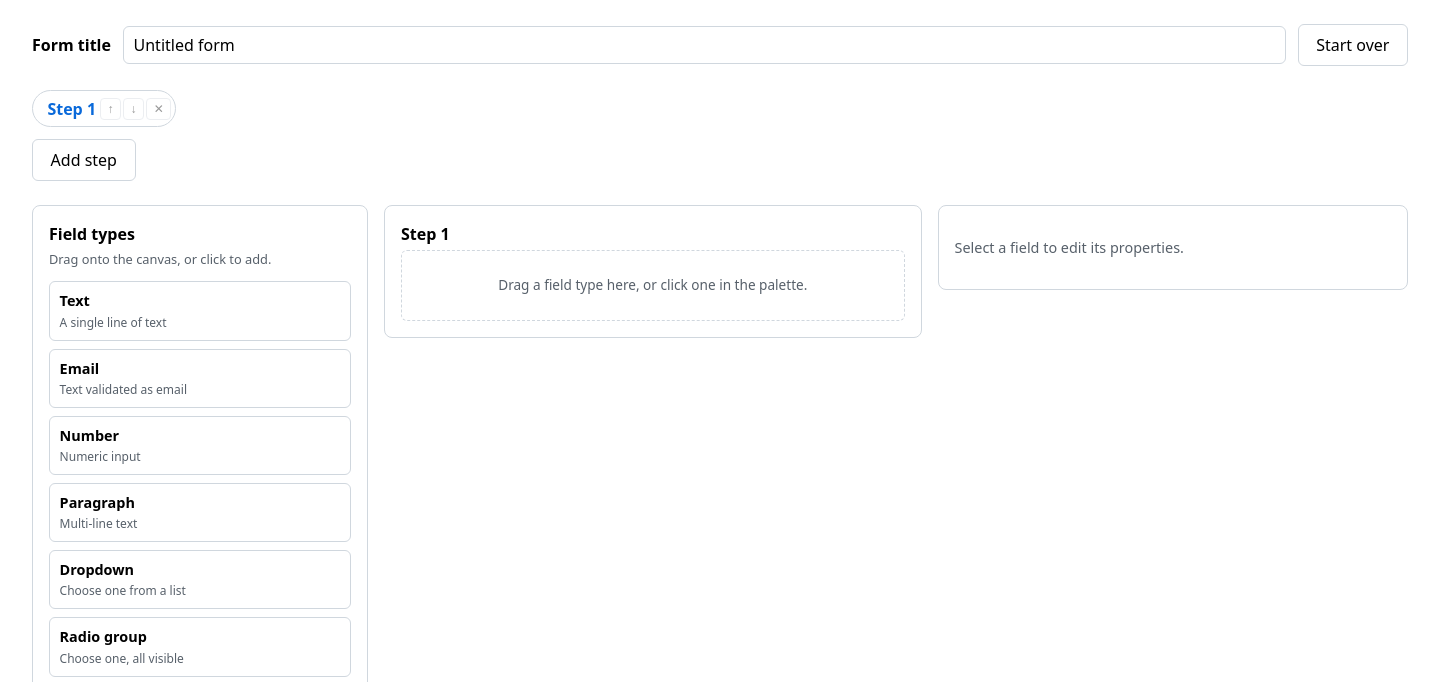
BuilderPage › editing label and name in the inspector updates the canvas and live preview
Click the button "Text A single line of text" at (75, 301), box [49,281,351,340]
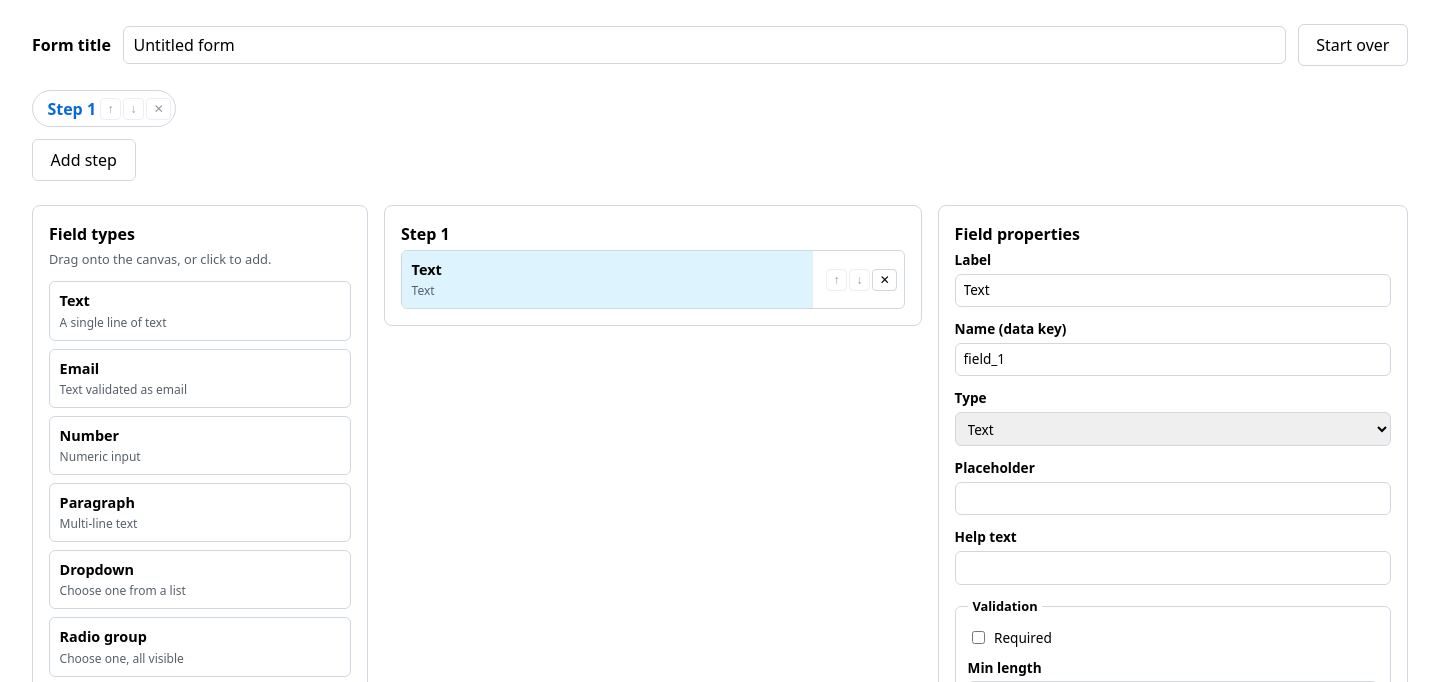
Replace the text in the field labelled "Label" with "Full name" at (1173, 290), box [955,274,1391,307]
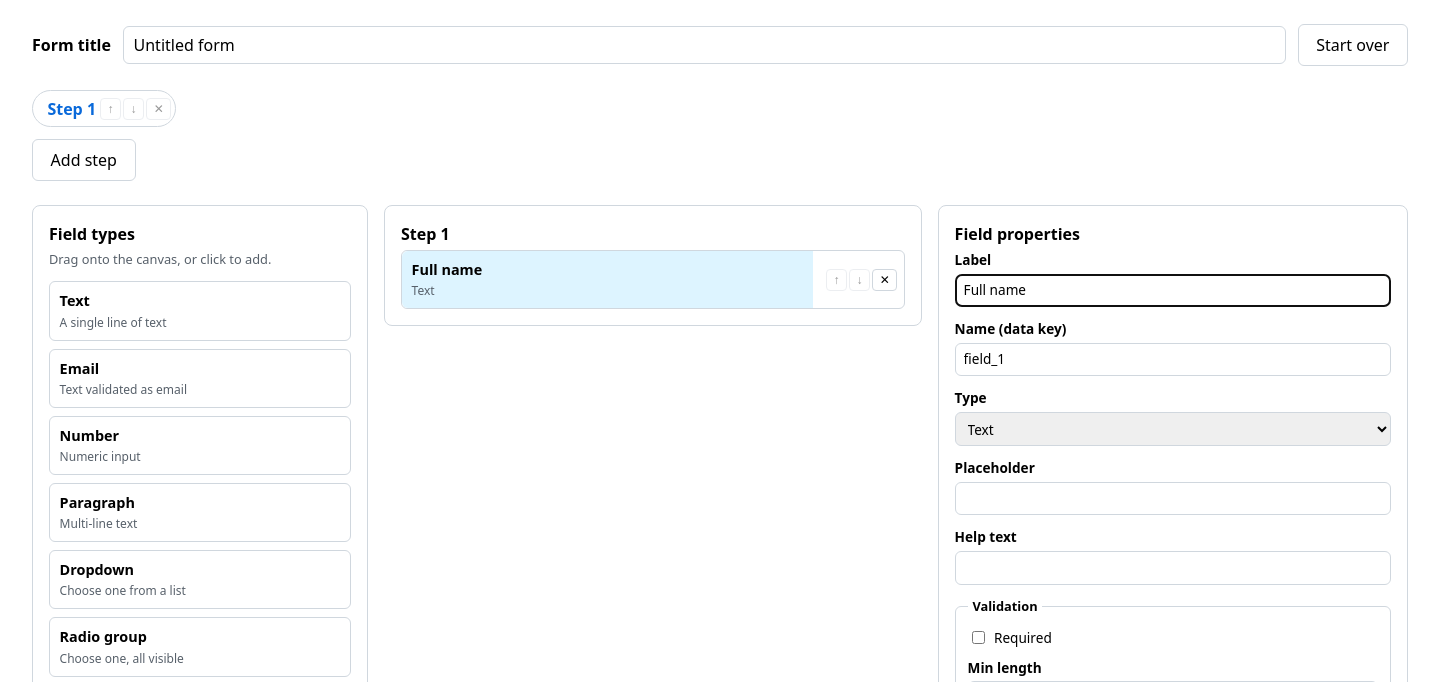
Replace the text in the field labelled "Name (data key)" with "fullName" at (1173, 360), box [955,343,1391,376]
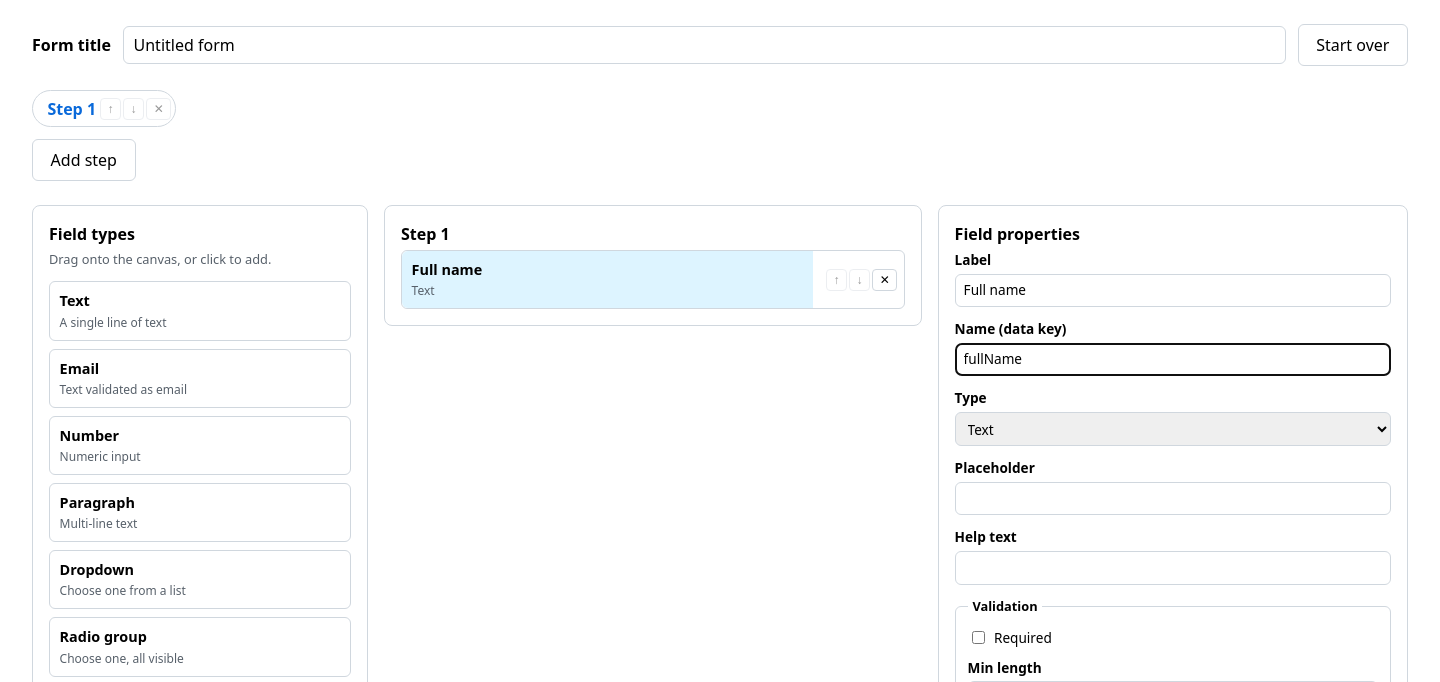
Press Tab
(page scrolled)
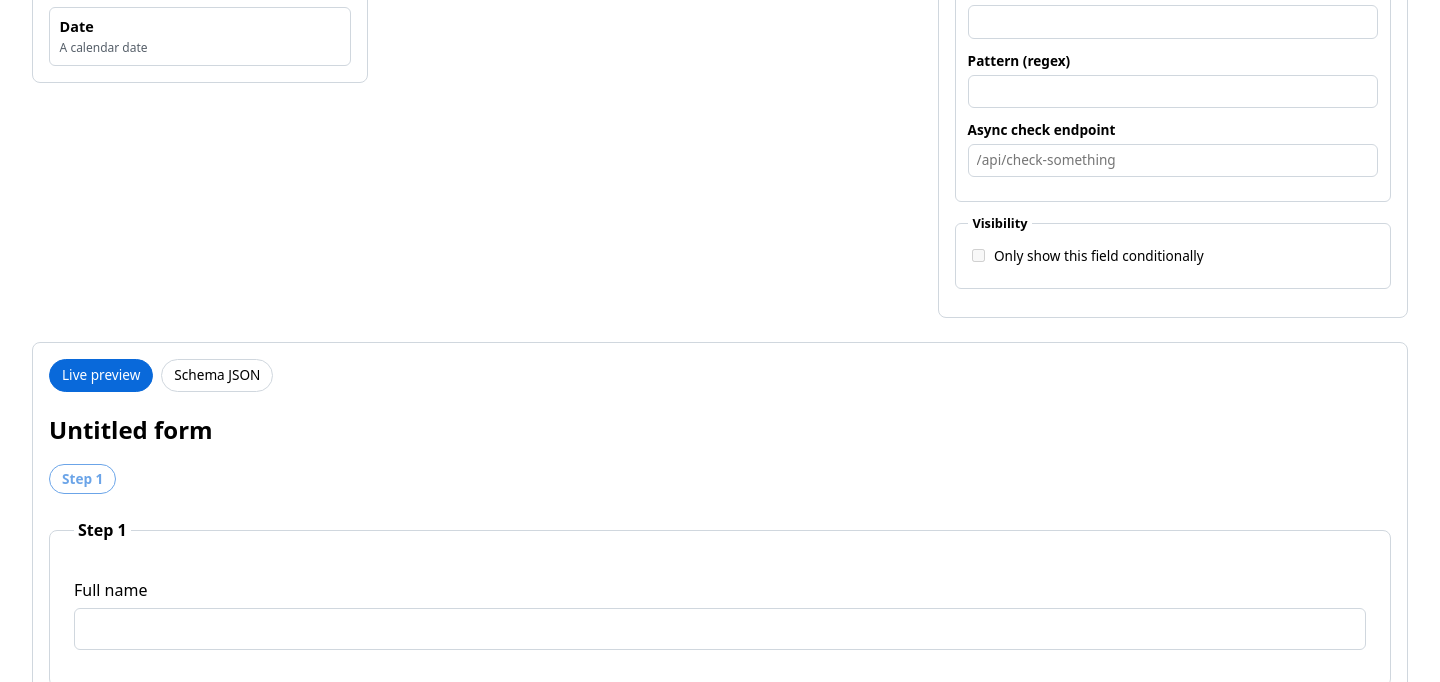
Check: the field labelled "Full name" is shown, box [74,608,1366,650]
